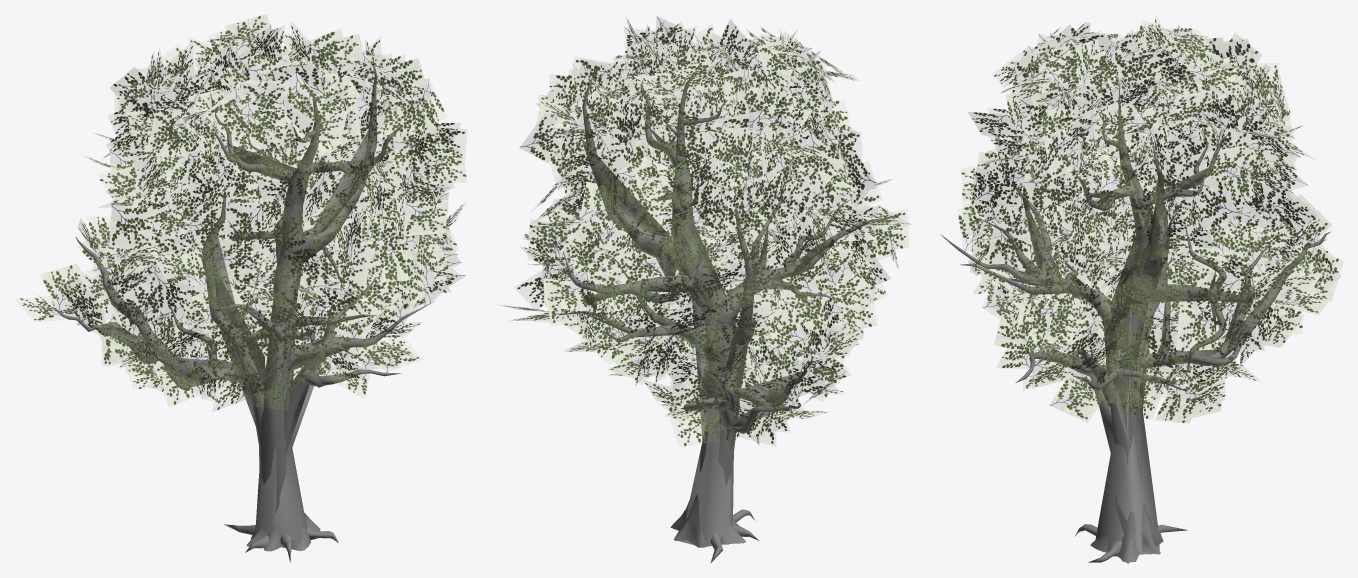
Rendered from sm_tree2.glb.
The picture shows the model from 3 angles, left to right: view 1: azimuth 30°, elevation 25°; view 2: azimuth 150°, elevation 25°; view 3: azimuth 270°, elevation 25°; orthographic projection.
Visible parts, largest first — view 1: sm_tree2_00; view 2: sm_tree2_00; view 3: sm_tree2_00.
Part boxes in pixels (x1=…): sm_tree2_00: x1=19, y1=14, x2=466, y2=562; sm_tree2_00: x1=501, y1=16, x2=910, y2=563; sm_tree2_00: x1=940, y1=19, x2=1342, y2=563.
Bounding box in the file's own units: 9.37 × 12.86 × 9.15.
Materials: 2 (1 with a texture image).
